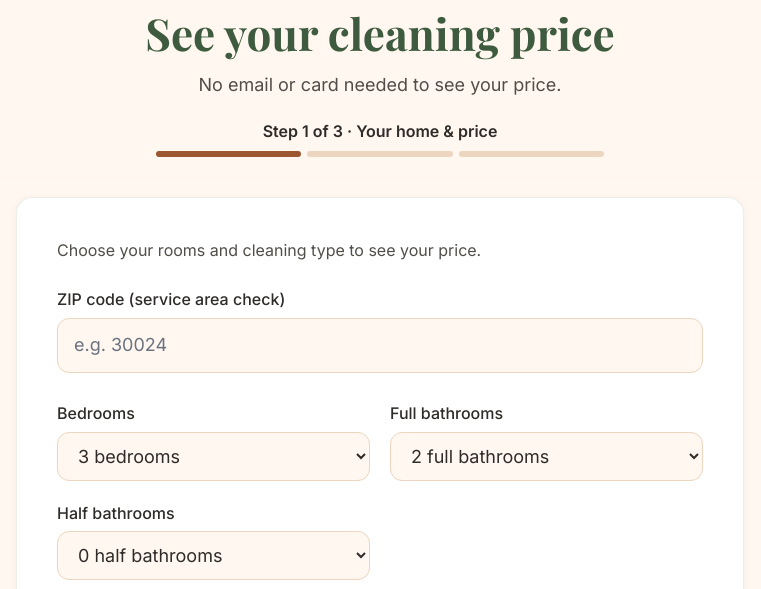
Test: V5: frequency is explicit and Services preselection flows into the total (visual report) › a Deep clean from Services shows the deep total under the ZIP
Type "30024" into the field labelled "ZIP code (service area check)" at (380, 345), box [57,318,703,373]
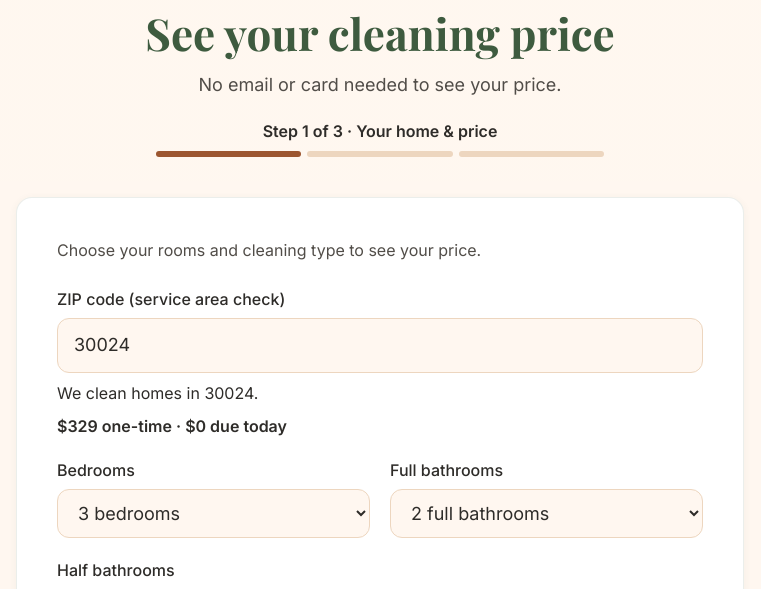
Check: the text "$329 one-time · $0 due today" is shown, box [57,416,287,436]
